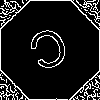C: (25, 25, 76, 82)
